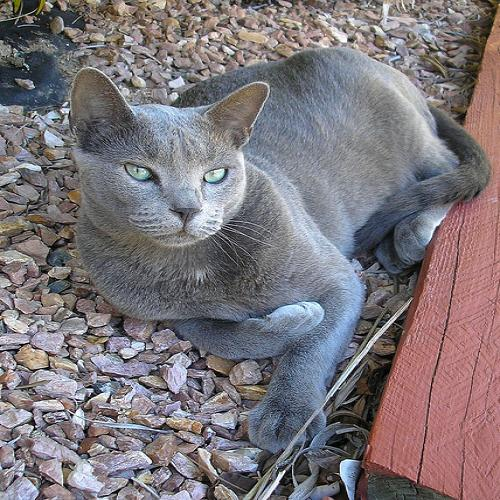rblue: (68, 64, 270, 264)
